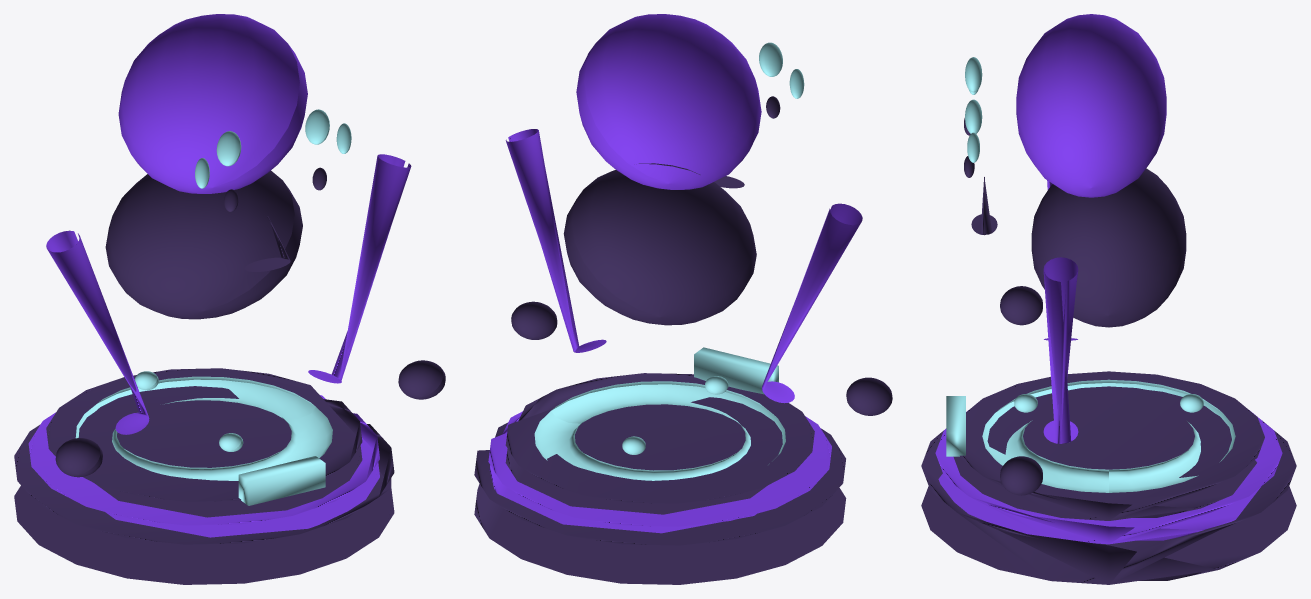
Rendered from sadman.glb.
3 views of the same model, side by side, from view 1: azimuth 30°, elevation 25°; view 2: azimuth 150°, elevation 25°; view 3: azimuth 270°, elevation 25° (orthographic). The views are drawn at different scales.
Visible parts, largest first — view 1: sadman_#3A2A59, sadman_#7C3AED, sadman_#A5F3FC; view 2: sadman_#3A2A59, sadman_#7C3AED, sadman_#A5F3FC; view 3: sadman_#3A2A59, sadman_#7C3AED, sadman_#A5F3FC.
Boxes of the visible parts, x1,y1,x2,y2 form: sadman_#3A2A59: (14, 167, 445, 584); sadman_#7C3AED: (28, 14, 411, 537); sadman_#A5F3FC: (75, 109, 351, 505); sadman_#3A2A59: (474, 96, 892, 584); sadman_#7C3AED: (488, 14, 862, 533); sadman_#A5F3FC: (534, 42, 804, 480); sadman_#3A2A59: (921, 118, 1296, 584); sadman_#7C3AED: (935, 14, 1282, 544); sadman_#A5F3FC: (946, 57, 1235, 492).
Bounding box in the file's own units: 2 × 2.43 × 1.72.
